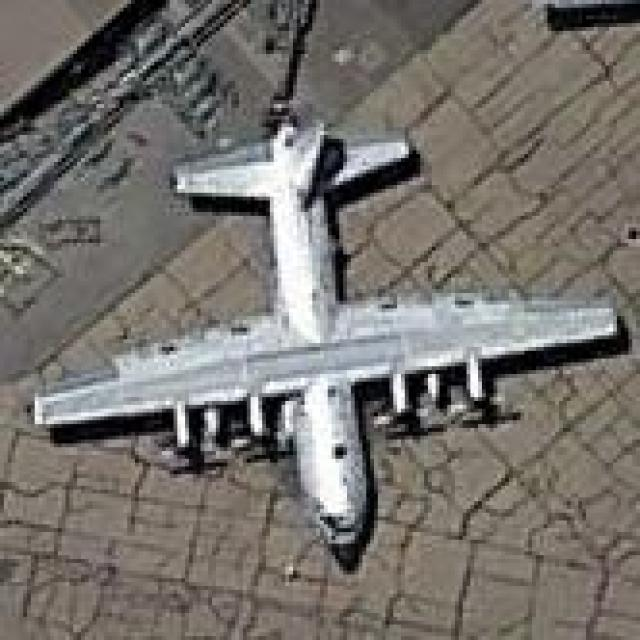C-130_TopDown: (33, 115, 633, 578)
